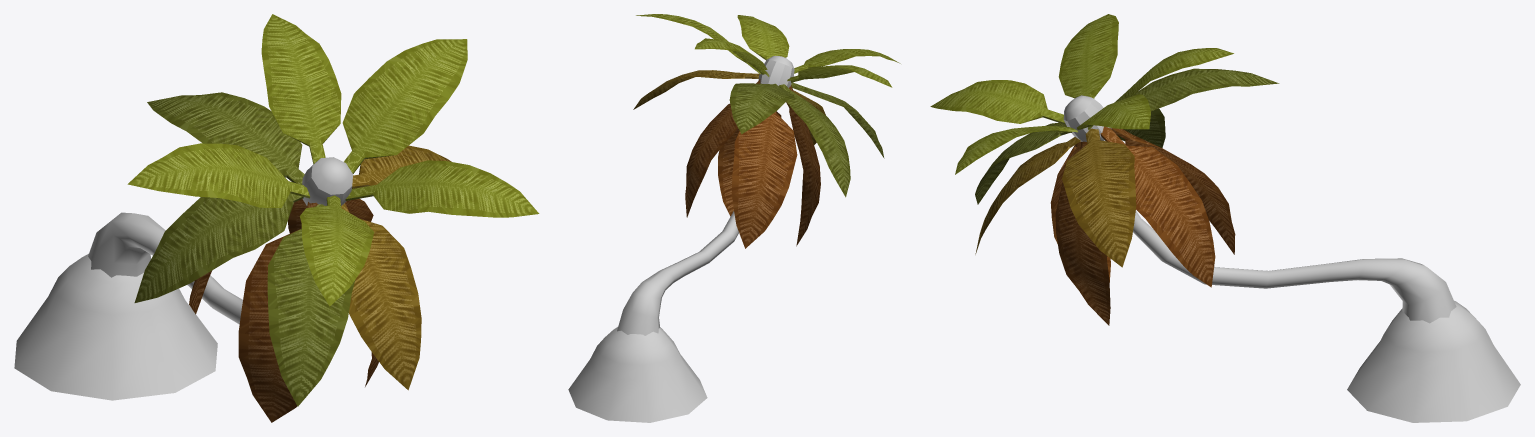
Rendered from PalmTree03_Art.fbx.
3 views of the same model, side by side, from view 1: azimuth 30°, elevation 25°; view 2: azimuth 150°, elevation 25°; view 3: azimuth 270°, elevation 25° (orthographic). The views are drawn at different scales.
Visible parts, largest first — view 1: PalmTree03_Art; view 2: PalmTree03_Art; view 3: PalmTree03_Art.
Boxes of the visible parts, x1,y1,x2,y2 form: PalmTree03_Art: [14, 14, 539, 422]; PalmTree03_Art: [568, 14, 900, 422]; PalmTree03_Art: [930, 14, 1520, 422].
Size of the model in its own units: 11 by 11.58 by 17.83.
